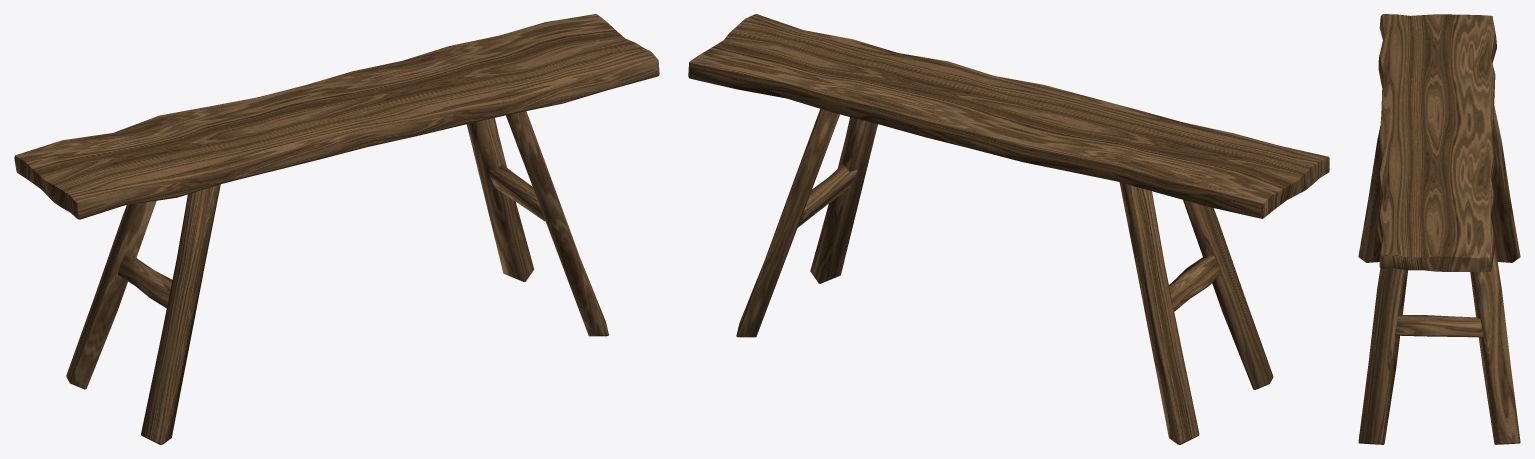
Rendered from banc_LOD0.FBX.
The picture shows the model from 3 angles, left to right: view 1: azimuth 30°, elevation 25°; view 2: azimuth 150°, elevation 25°; view 3: azimuth 270°, elevation 25°; orthographic projection. The views are drawn at different scales.
Visible parts, largest first — view 1: banc_LOD0; view 2: banc_LOD0; view 3: banc_LOD0.
Boxes of the visible parts, bbox=[...] form: banc_LOD0: bbox=[14, 14, 659, 444]; banc_LOD0: bbox=[688, 14, 1329, 444]; banc_LOD0: bbox=[1358, 14, 1520, 444].
Bounding box in the file's own units: 126 × 53.11 × 35.5.
